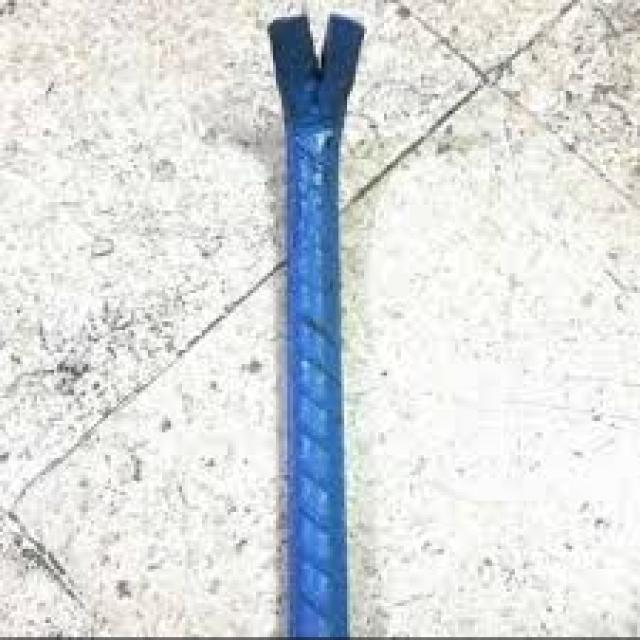Linggis: (256, 13, 371, 640)
